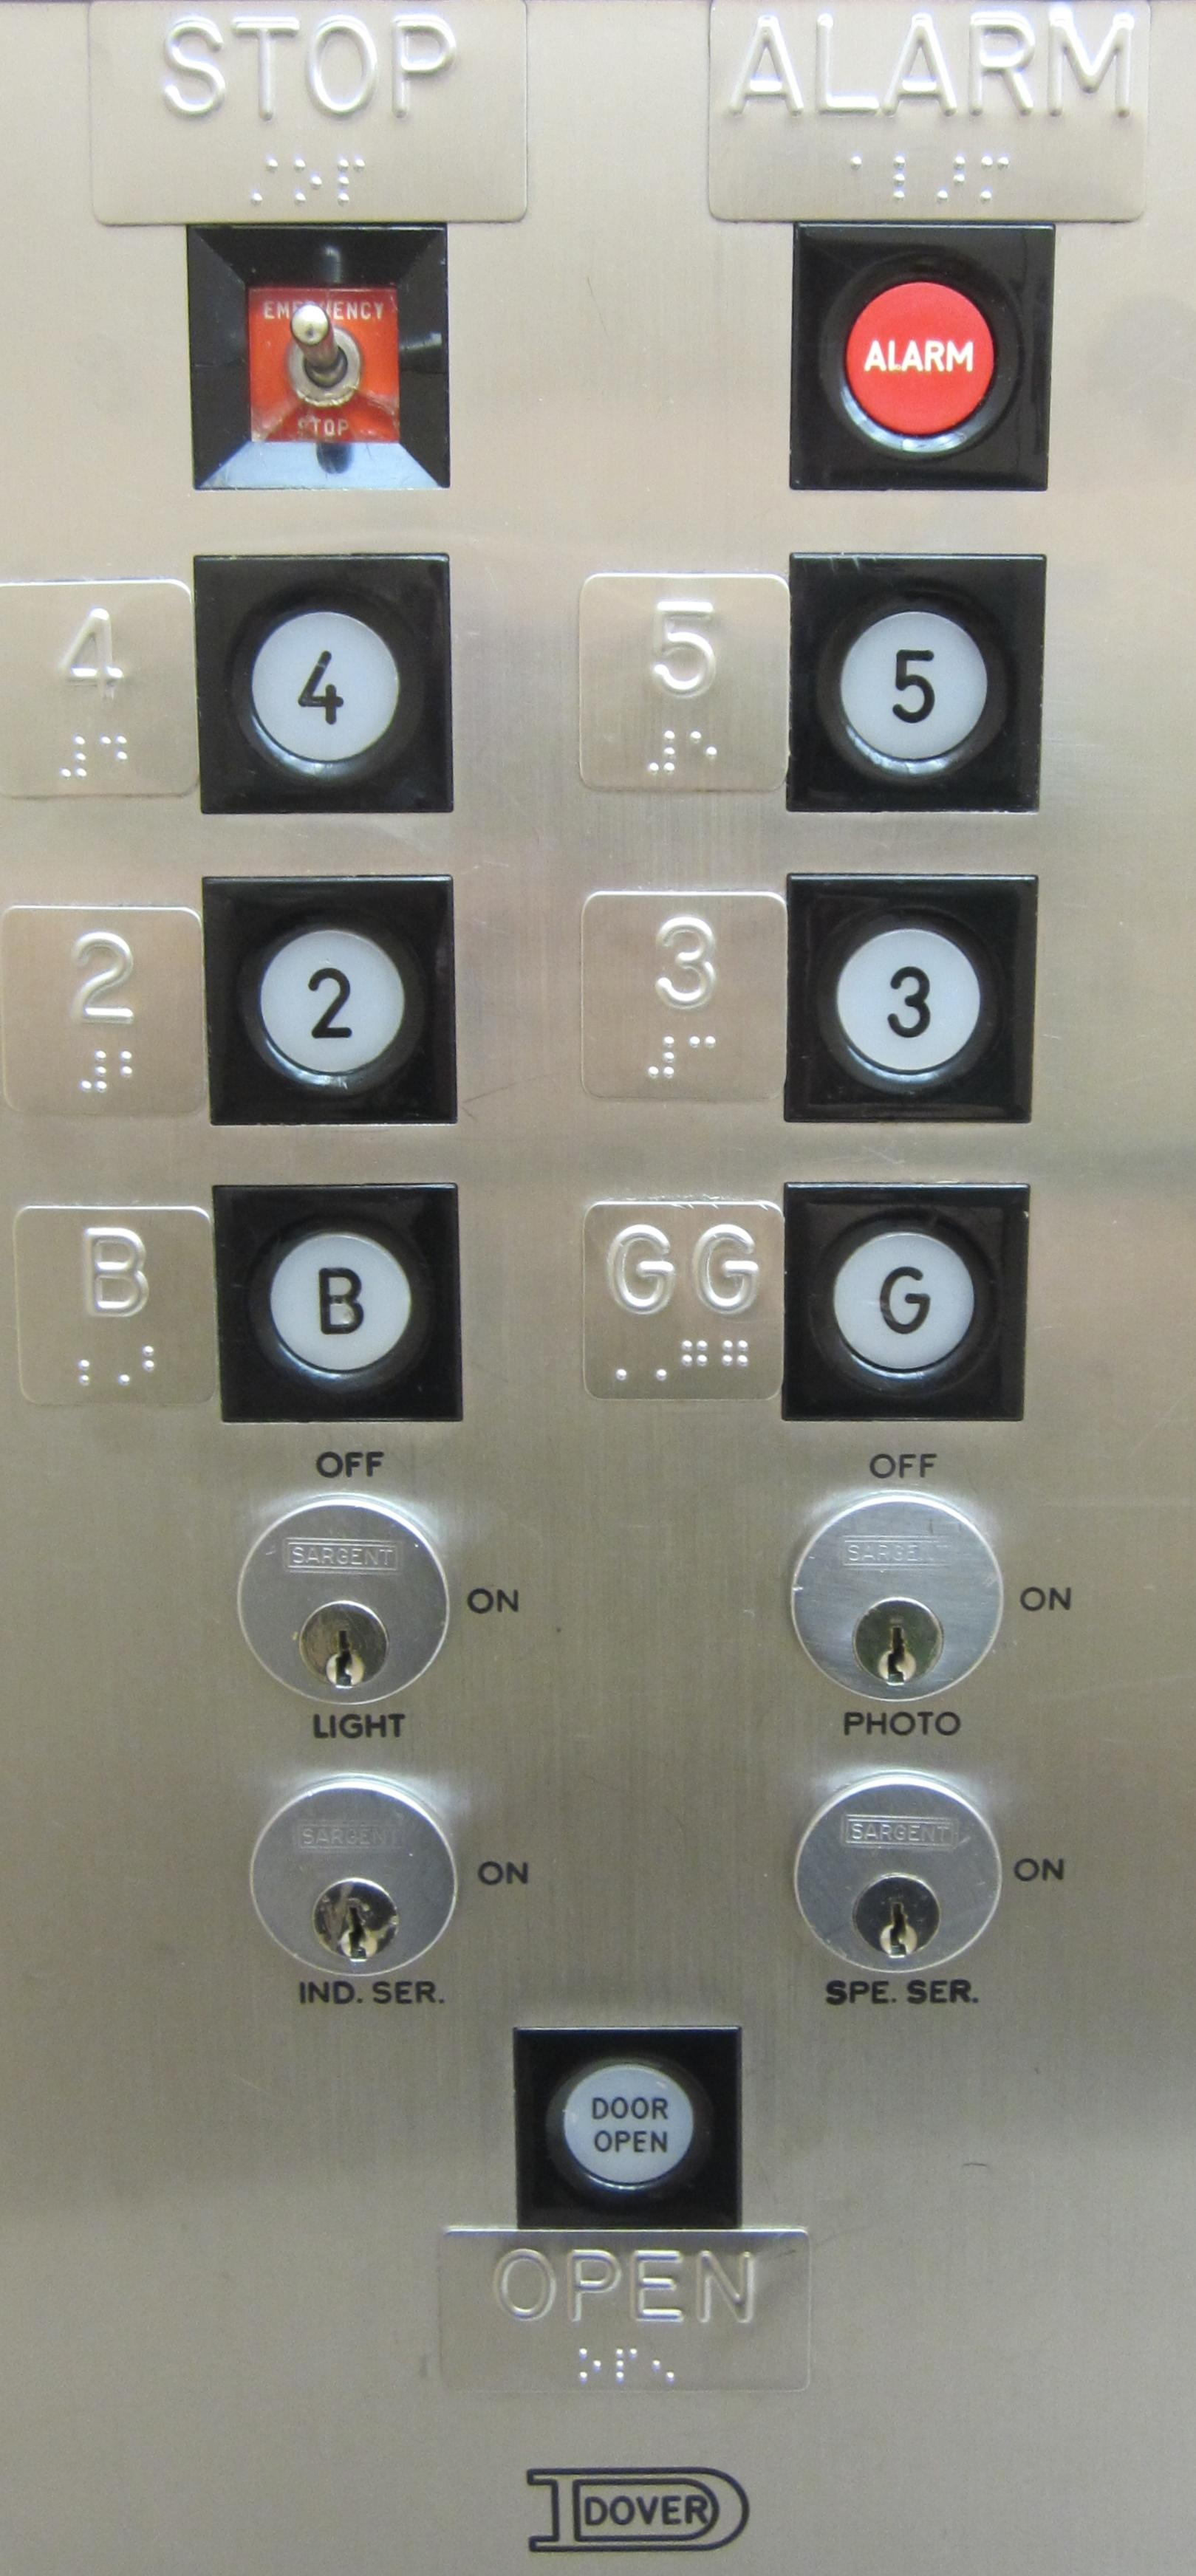2: (199, 871, 468, 1135), (0, 890, 204, 1124)
3: (779, 864, 1045, 1135), (568, 879, 792, 1111)
4: (189, 547, 468, 820), (0, 572, 192, 812)
5: (780, 545, 1053, 821), (567, 565, 787, 808)
B: (205, 1173, 475, 1429), (0, 1196, 219, 1413)
G: (777, 1171, 1035, 1431)
GG: (572, 1193, 787, 1411)
bt_switch: (176, 215, 462, 506)
keyhole: (787, 1488, 1004, 1704), (237, 1495, 450, 1709), (789, 1771, 1002, 1976), (250, 1773, 457, 1980)
text_alarm: (780, 215, 1066, 503)
text_door open: (501, 2021, 749, 2236)
